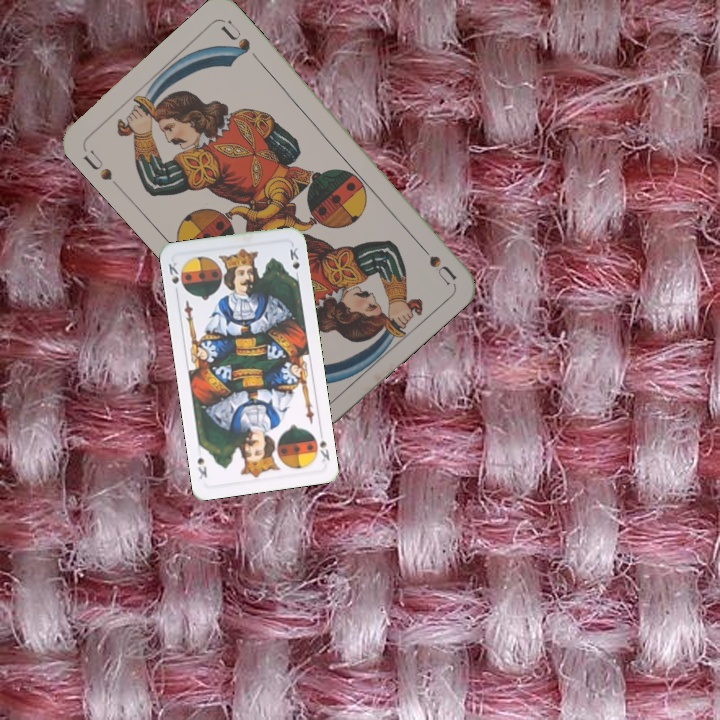SK: (309, 426, 333, 464), (164, 258, 181, 297)
SU: (411, 236, 459, 287), (79, 146, 115, 184)
